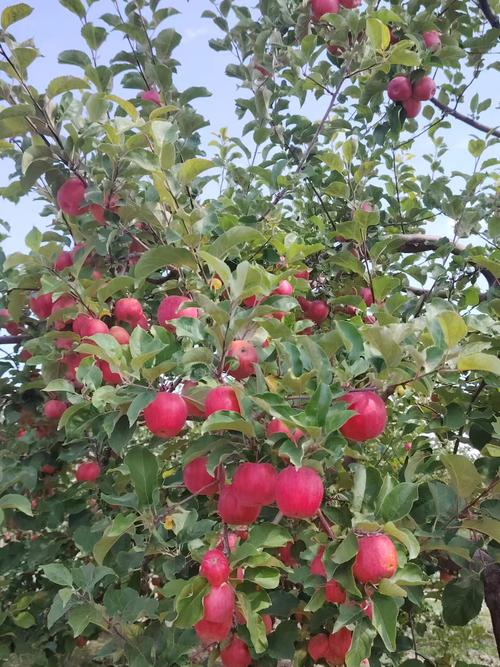ripe: (131, 386, 196, 444), (325, 388, 391, 444), (344, 533, 405, 589), (226, 458, 282, 517), (272, 461, 323, 519), (187, 577, 240, 624), (51, 172, 102, 218), (214, 337, 267, 379), (199, 383, 243, 430), (155, 288, 199, 333)
